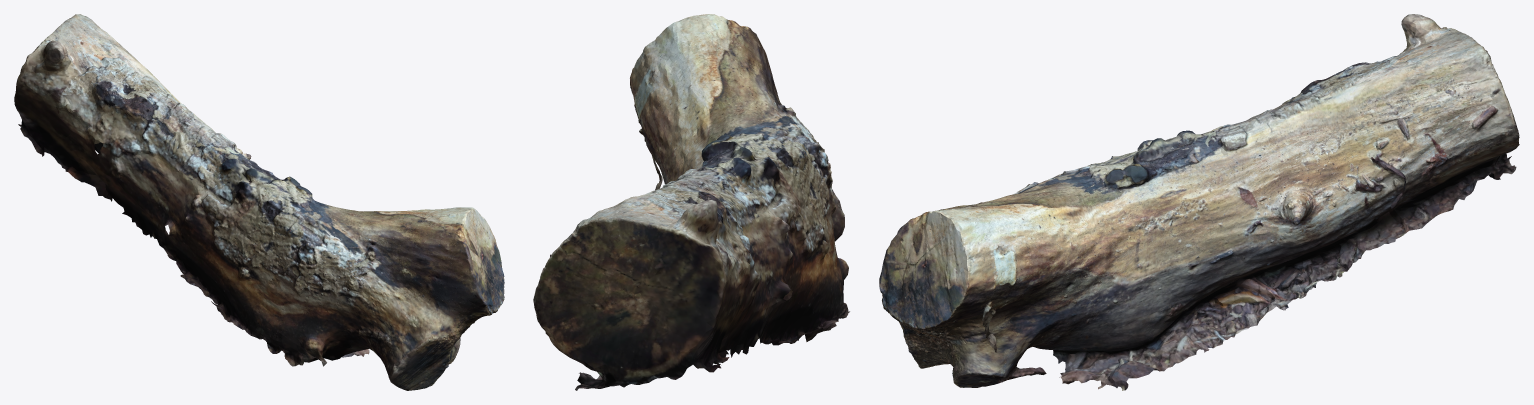
Rendered from Wood.fbx.
3 views of the same model, side by side, from view 1: azimuth 30°, elevation 25°; view 2: azimuth 150°, elevation 25°; view 3: azimuth 270°, elevation 25° (orthographic). The views are drawn at different scales.
Parts seen in each view (by area): view 1: Mesh_0; view 2: Mesh_0; view 3: Mesh_0.
Part boxes in pixels (x1,y1,x2,y2): Mesh_0: [14, 14, 504, 390]; Mesh_0: [533, 14, 849, 390]; Mesh_0: [879, 14, 1519, 390].
Size of the model in its own units: 67.92 by 57.18 by 119.
